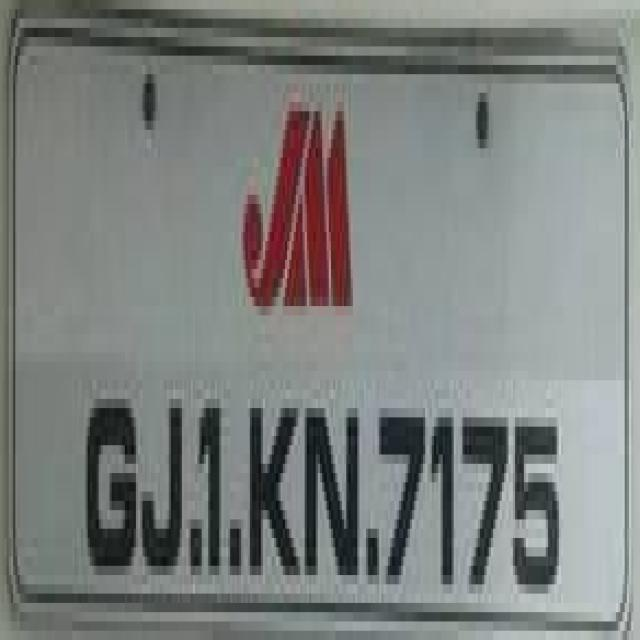license_plate: (0, 28, 609, 640)
